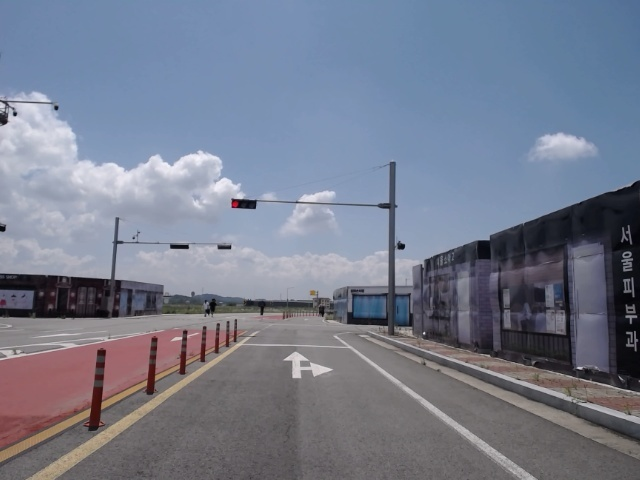red_3: (231, 199, 257, 210)
